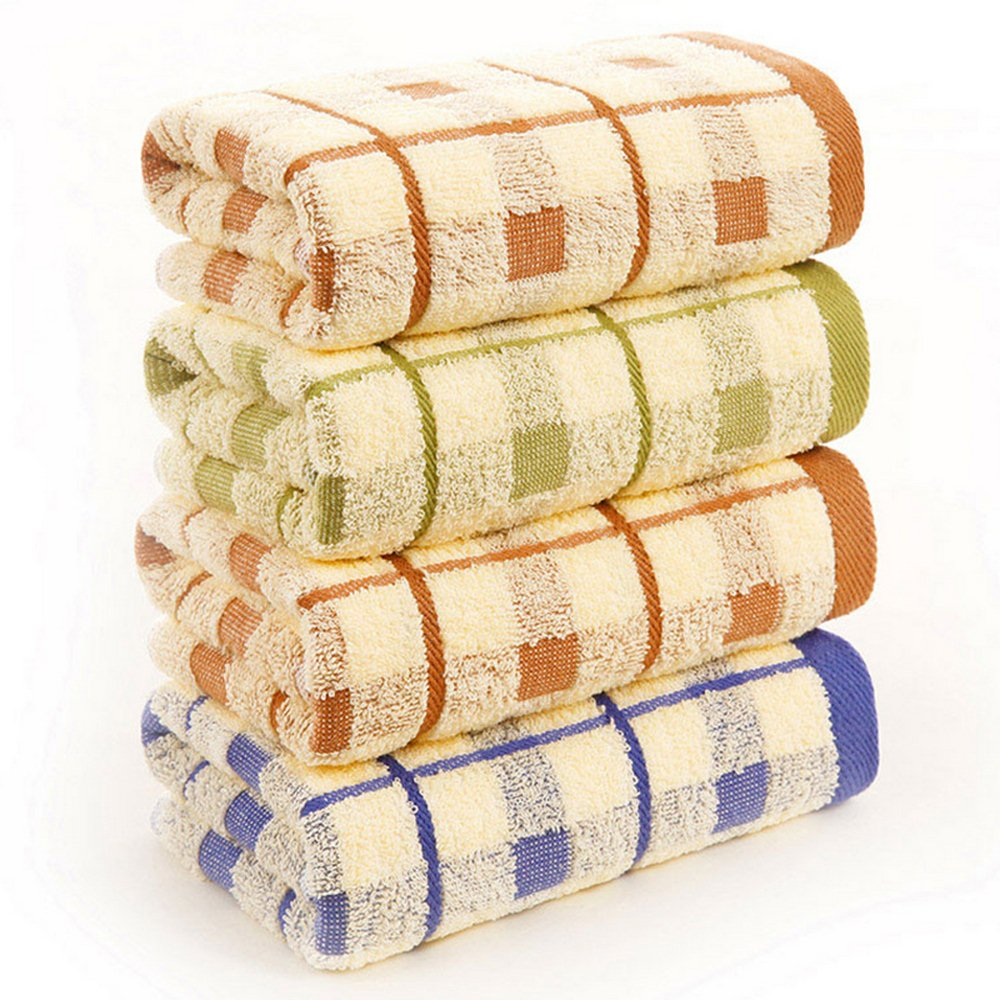flexible: (140, 32, 890, 972)
